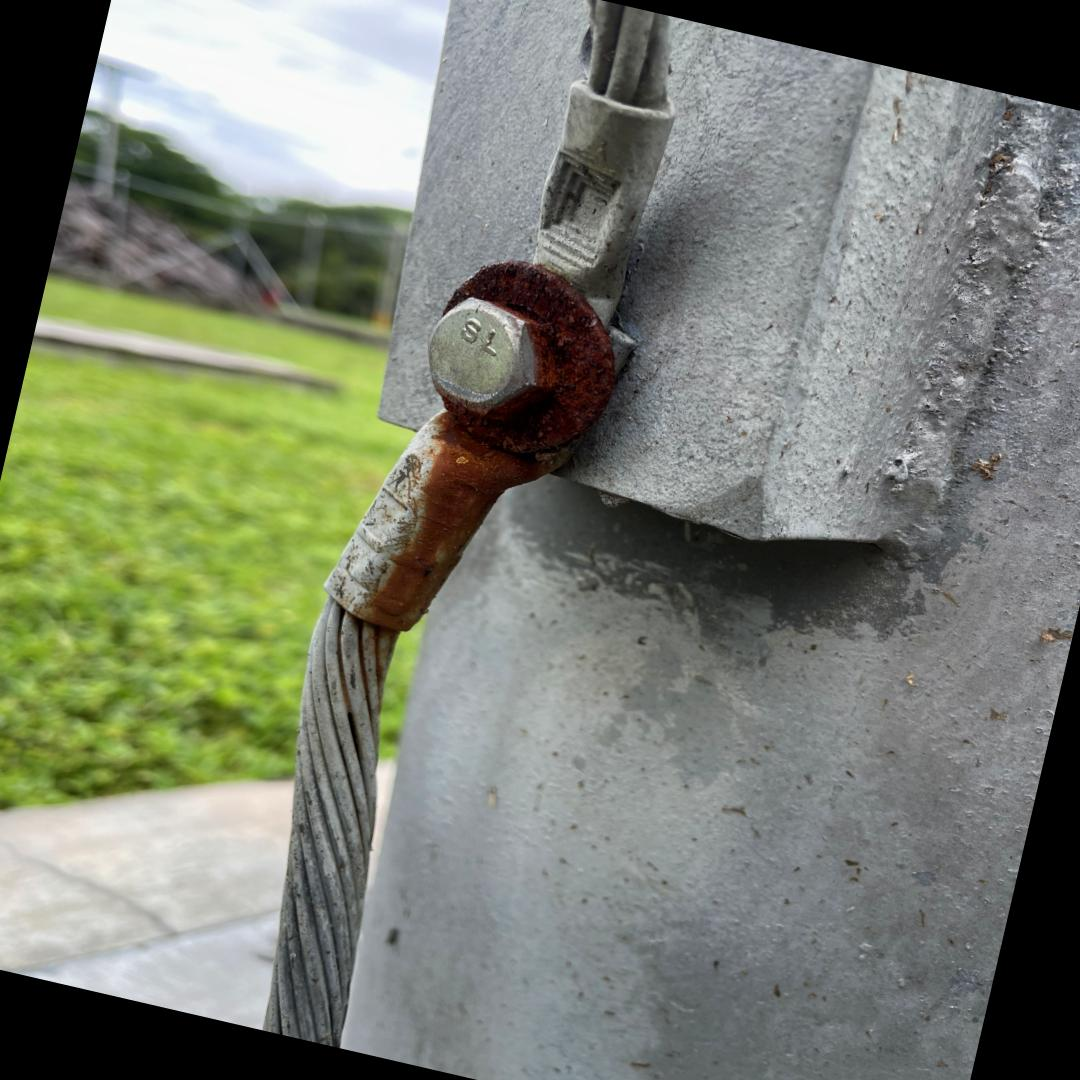Metal: (251, 0, 1080, 1080)
Metal corroido: (367, 257, 616, 630)
Tornillo sin corrosion: (424, 296, 537, 406)
